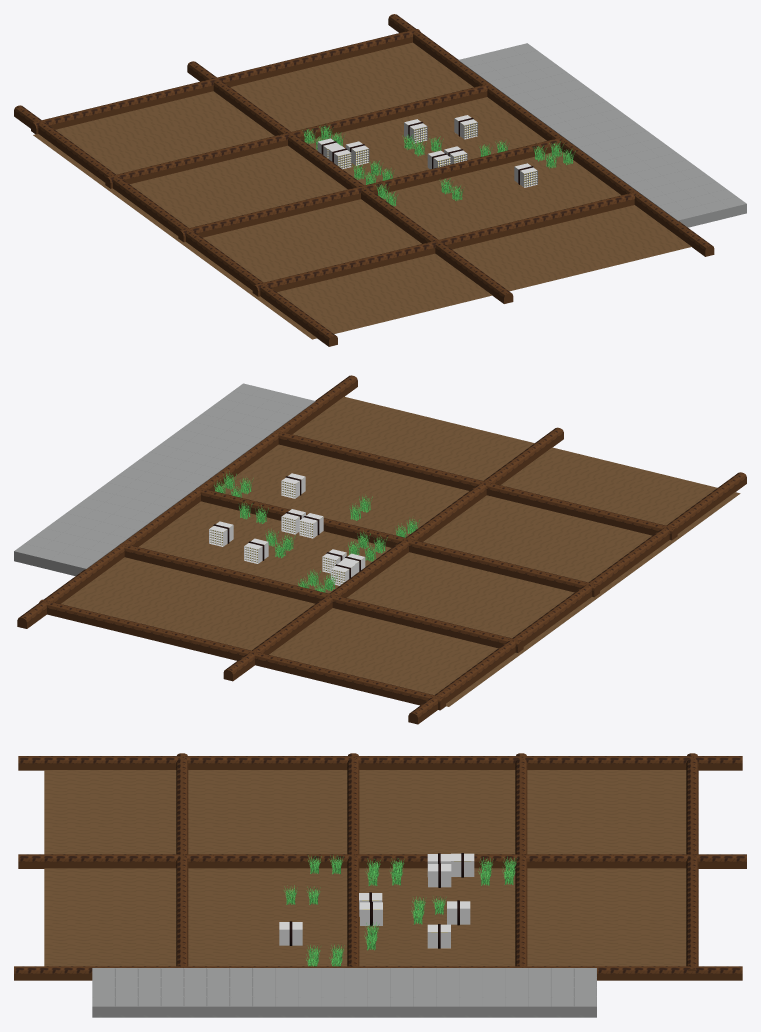
File: Main Menu prev no sky .fbx
3 views of the same model, one above another, from view 1: azimuth 30°, elevation 25°; view 2: azimuth 150°, elevation 25°; view 3: azimuth 270°, elevation 25° (orthographic). The views are drawn at different scales.
Parts seen in each view (by area): view 1: Plane.001, Jalan, PematangY, PematangX, PematangX.001, PematangY.001, Jerami, Padi; view 2: Plane.001, Jalan, PematangX, PematangY, PematangX.001, PematangY.001, Jerami, Padi; view 3: Plane.001, Jalan, PematangY, PematangY.001, PematangX, PematangX.001, Jerami, Padi, taliJerami.
Part boxes in pixels (x1=…): Plane.001: x1=33, y1=42, x2=691, y2=339; Jalan: x1=458, y1=43, x2=746, y2=227; PematangY: x1=187, y1=14, x2=714, y2=303; PematangX: x1=31, y1=29, x2=491, y2=188; PematangX.001: x1=178, y1=137, x2=638, y2=296; PematangY.001: x1=14, y1=105, x2=337, y2=346; Jerami: x1=317, y1=115, x2=537, y2=187; Padi: x1=302, y1=124, x2=575, y2=206; Plane.001: x1=61, y1=396, x2=740, y2=706; Jalan: x1=14, y1=383, x2=315, y2=575; PematangX: x1=39, y1=543, x2=523, y2=710; PematangY: x1=17, y1=375, x2=563, y2=681; PematangX.001: x1=196, y1=430, x2=677, y2=597; PematangY.001: x1=408, y1=472, x2=746, y2=724; Jerami: x1=209, y1=473, x2=365, y2=585; Padi: x1=214, y1=471, x2=419, y2=592; Plane.001: x1=44, y1=770, x2=686, y2=966; Jalan: x1=92, y1=968, x2=596, y2=1017; PematangY: x1=14, y1=854, x2=746, y2=980; PematangY.001: x1=18, y1=756, x2=742, y2=770; PematangX: x1=515, y1=753, x2=698, y2=970; PematangX.001: x1=176, y1=753, x2=359, y2=967; Jerami: x1=279, y1=853, x2=474, y2=948; Padi: x1=284, y1=855, x2=517, y2=966; taliJerami: x1=289, y1=853, x2=463, y2=948.
Size of the model in its own units: 5272 by 167 by 6388.
